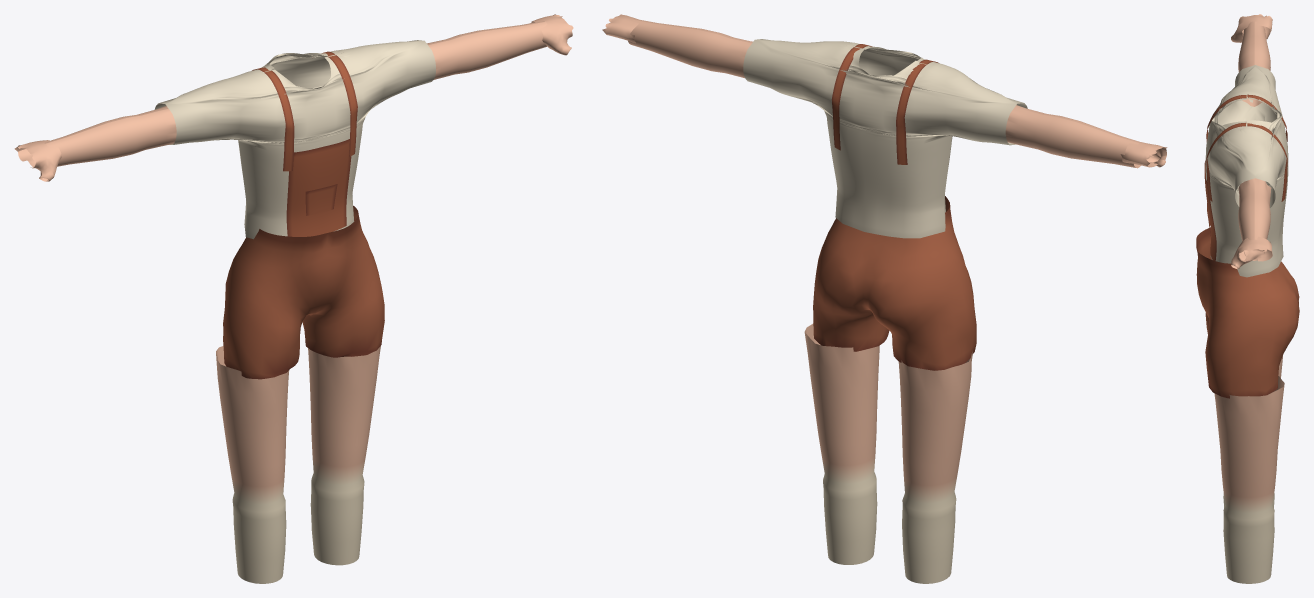
Rendered from lingya-attire-93023a8d1b03.glb.
3 views of the same model, side by side, from view 1: azimuth 30°, elevation 25°; view 2: azimuth 150°, elevation 25°; view 3: azimuth 270°, elevation 25° (orthographic). The views are drawn at different scales.
Parts seen in each view (by area): view 1: Superhero_Female, Female_Ranger_Body, Female_Ranger_Arms_1; view 2: Superhero_Female, Female_Ranger_Body, Female_Ranger_Arms_1; view 3: Superhero_Female, Female_Ranger_Body, Female_Ranger_Arms_1.
Boxes of the visible parts, x1,y1,x2,y2 form: Superhero_Female: (216, 205, 384, 583); Female_Ranger_Body: (154, 40, 435, 239); Female_Ranger_Arms_1: (14, 14, 573, 181); Superhero_Female: (804, 196, 976, 583); Female_Ranger_Body: (743, 39, 1027, 238); Female_Ranger_Arms_1: (602, 14, 1167, 168); Superhero_Female: (1196, 227, 1299, 583); Female_Ranger_Body: (1204, 65, 1288, 277); Female_Ranger_Arms_1: (1231, 14, 1272, 269).
Bounding box in the file's own units: 1.42 × 1.26 × 0.2626.
